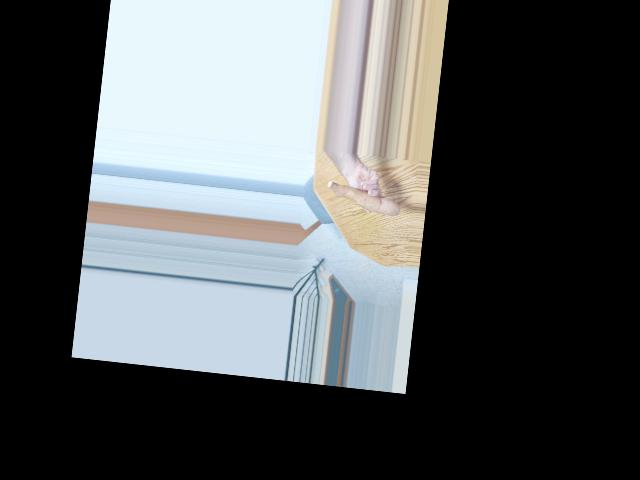sweet_potato: (326, 179, 399, 220)
